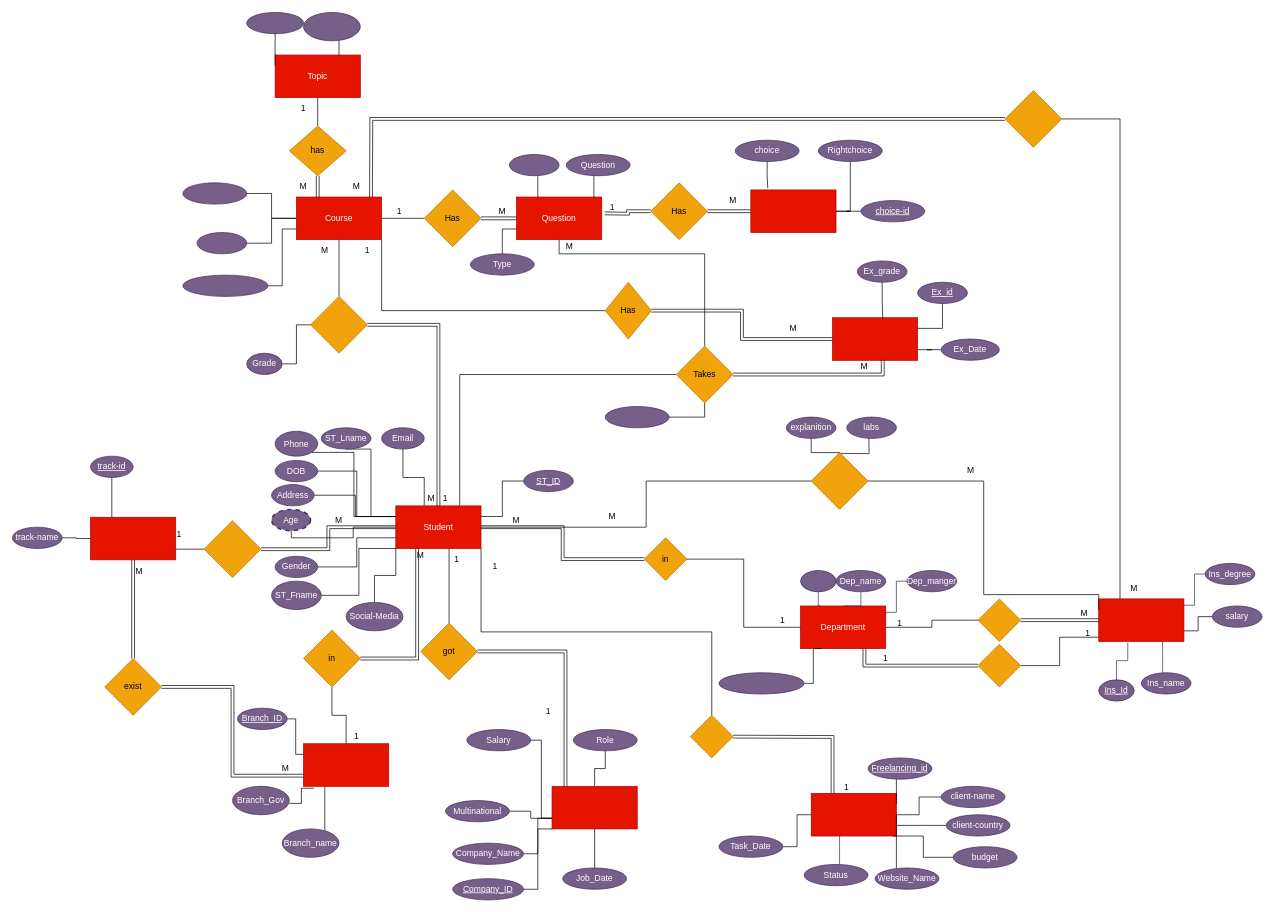
The diagram is 1274 pixels wide and 912 high, and some of its shapes have lost their labels. The shapes that lost their labels are listed below. From the top down, each one's box as (x1, y1, x2, y2) in pixels, then its label:
(246, 12, 304, 34): Topic_id
(303, 12, 360, 41): Topic_name
(1004, 90, 1062, 147): Teaches
(509, 154, 559, 176): Questi_ID
(182, 182, 247, 204): Course_Name
(750, 189, 836, 233): Choices
(196, 232, 247, 254): Course_ID
(182, 274, 268, 296): Course_Description
(310, 296, 367, 353): Enroll
(832, 317, 918, 360): Exam
(605, 406, 669, 428): st_ answer
(811, 452, 868, 509): Evaluate
(90, 517, 176, 560): Track
(203, 520, 261, 578): study
(800, 570, 836, 592): Dep_Id
(977, 598, 1021, 641): works
(1098, 598, 1184, 641): Instuctor
(718, 672, 804, 694): Dep_mangerhiredate
(977, 644, 1021, 687): Mange
(690, 715, 733, 758): perform
(303, 743, 389, 786): Branch
(551, 786, 637, 829): job
(811, 793, 896, 836): Freelancing
